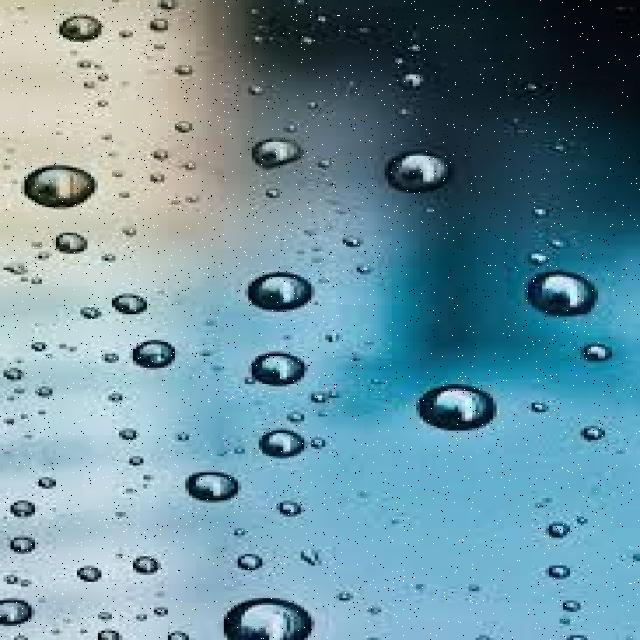raindrop: (411, 380, 506, 445), (524, 262, 616, 328), (238, 260, 328, 320), (20, 158, 110, 216), (217, 591, 322, 640), (378, 142, 459, 204), (238, 130, 318, 176), (54, 5, 118, 50), (182, 466, 244, 511), (246, 352, 312, 394), (126, 331, 186, 376), (258, 425, 312, 465)
